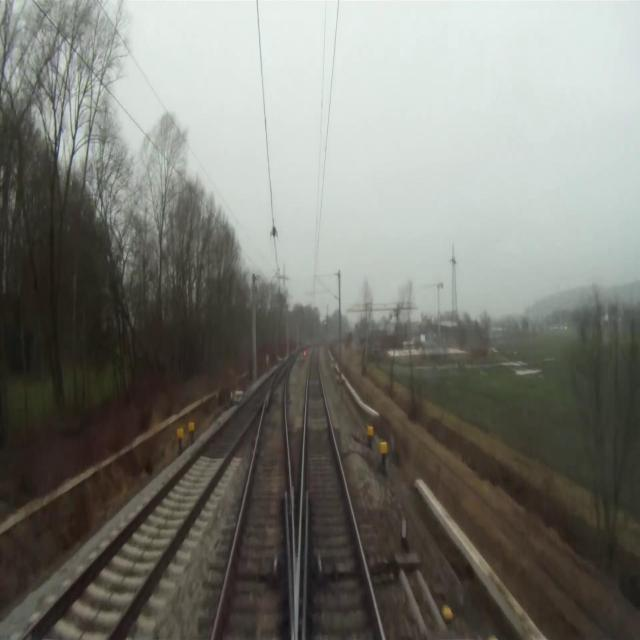rail-track: (31, 377, 271, 639), (304, 347, 380, 639), (215, 375, 290, 639)
